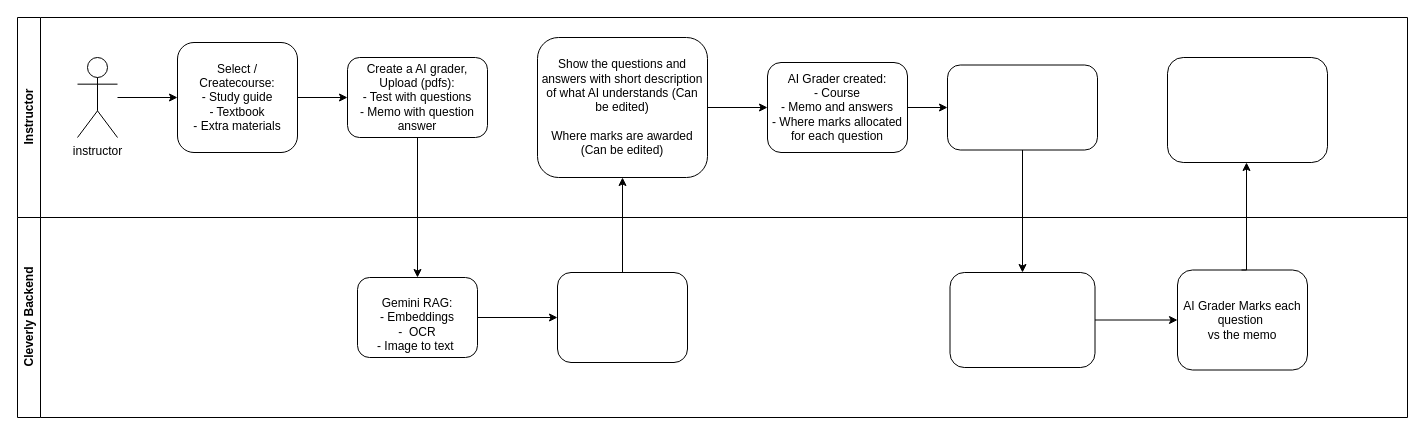
Some shapes in this 1425 by 435 pixel diagram are drawn without their labels. Each missing label, with the centre of its shape:
Gemini RAG for each test: - Embeddings - OCR - Image to text: the point at 1022,320
Short description of understanding of each answser for the question: the point at 622,317
Show results and feedback: - Table - Summary stats / analytics - Export as excel: the point at 1247,109
Upload Test(s) - Scanned PDFs - one-by-one or bulk upload: the point at 1022,107
